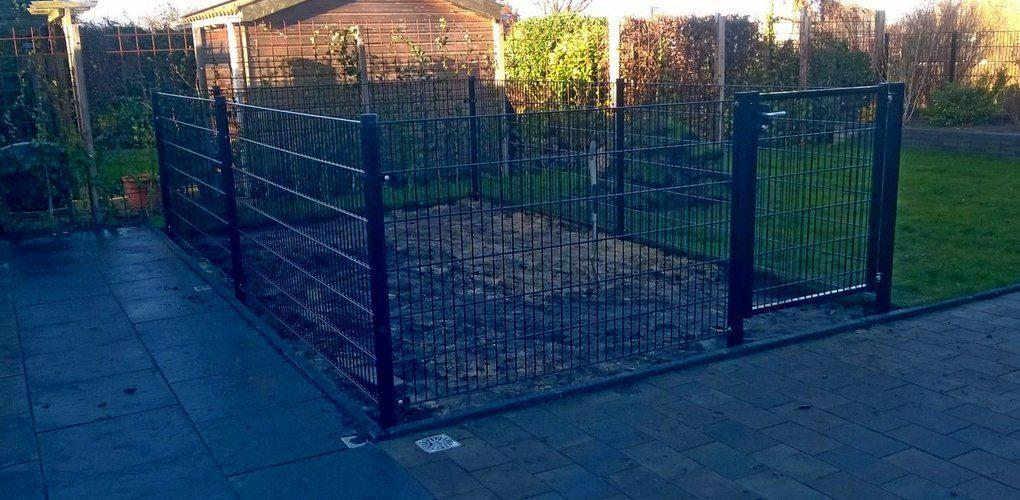obstacle: (359, 0, 1020, 497)
